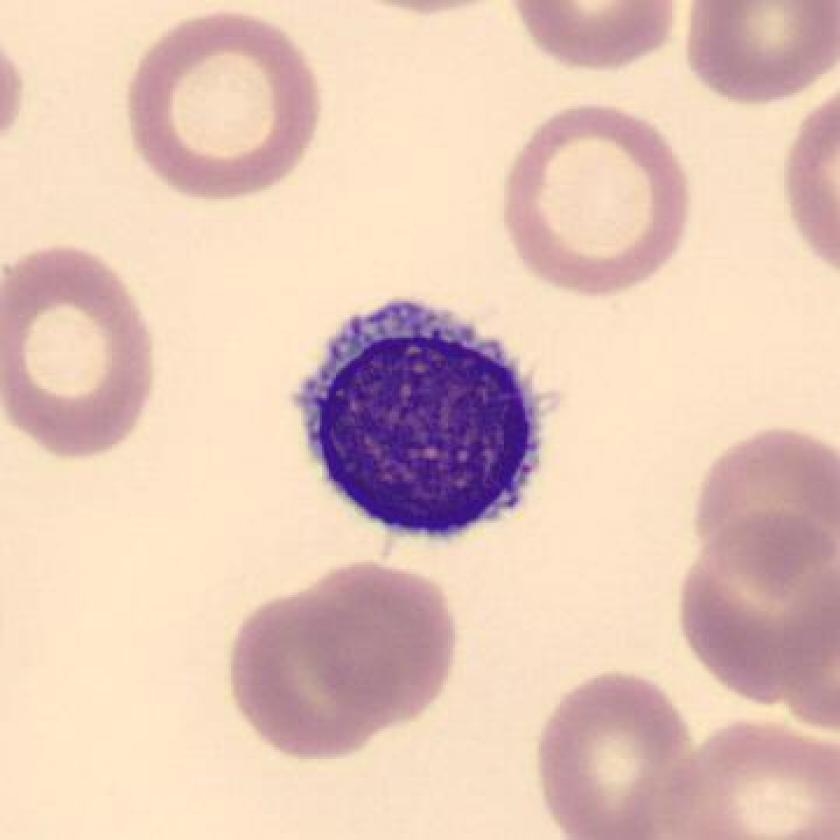lymphocyte: (286, 293, 561, 552)
